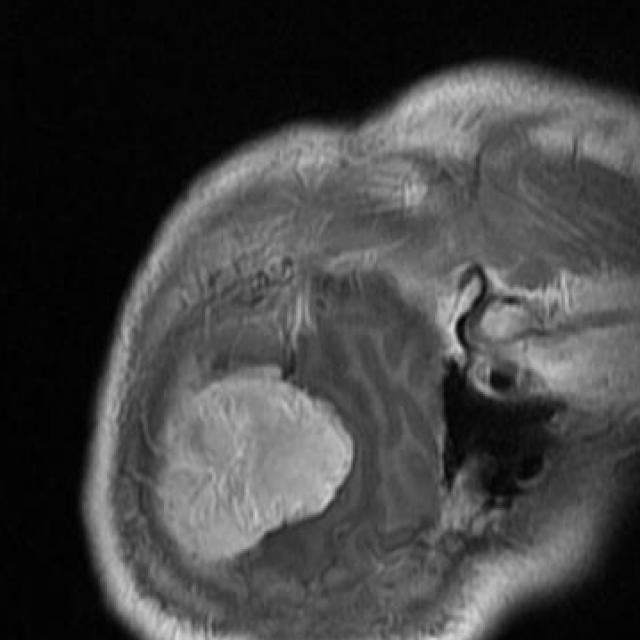meningioma: (164, 365, 353, 565)
